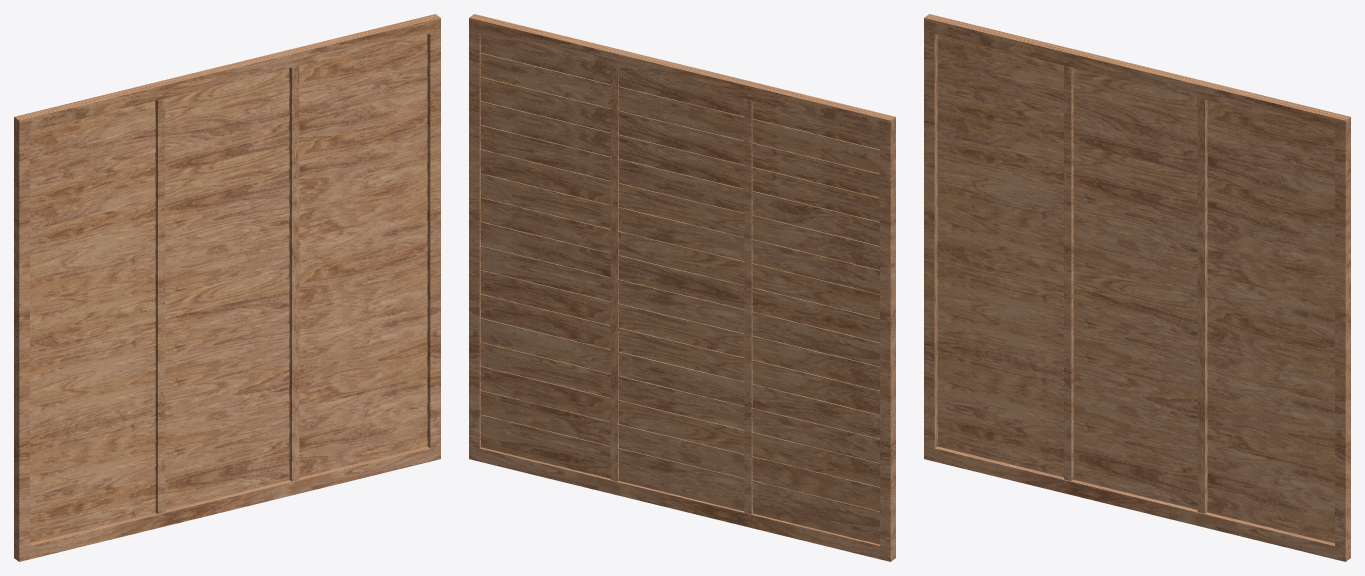
Rendered from Fence.fbx.
The picture shows the model from 3 angles, left to right: view 1: azimuth 30°, elevation 25°; view 2: azimuth 150°, elevation 25°; view 3: azimuth 330°, elevation 25°; orthographic projection.
Parts seen in each view (by area): view 1: Fence; view 2: Fence; view 3: Fence.
Boxes of the visible parts, <box> form: Fence: <box>14,14,440,561</box>; Fence: <box>469,14,895,561</box>; Fence: <box>924,14,1350,561</box>.
Bounding box in the file's own units: 183 × 183 × 4.
